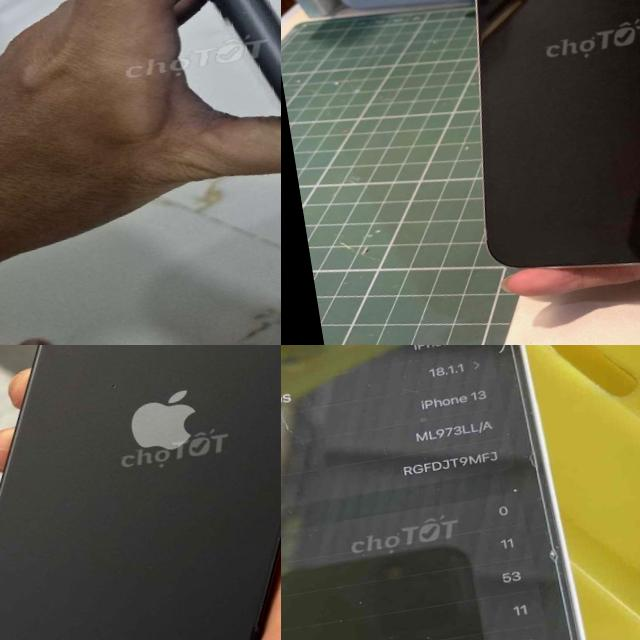physical_damage: (386, 345, 540, 381), (516, 509, 570, 576)
